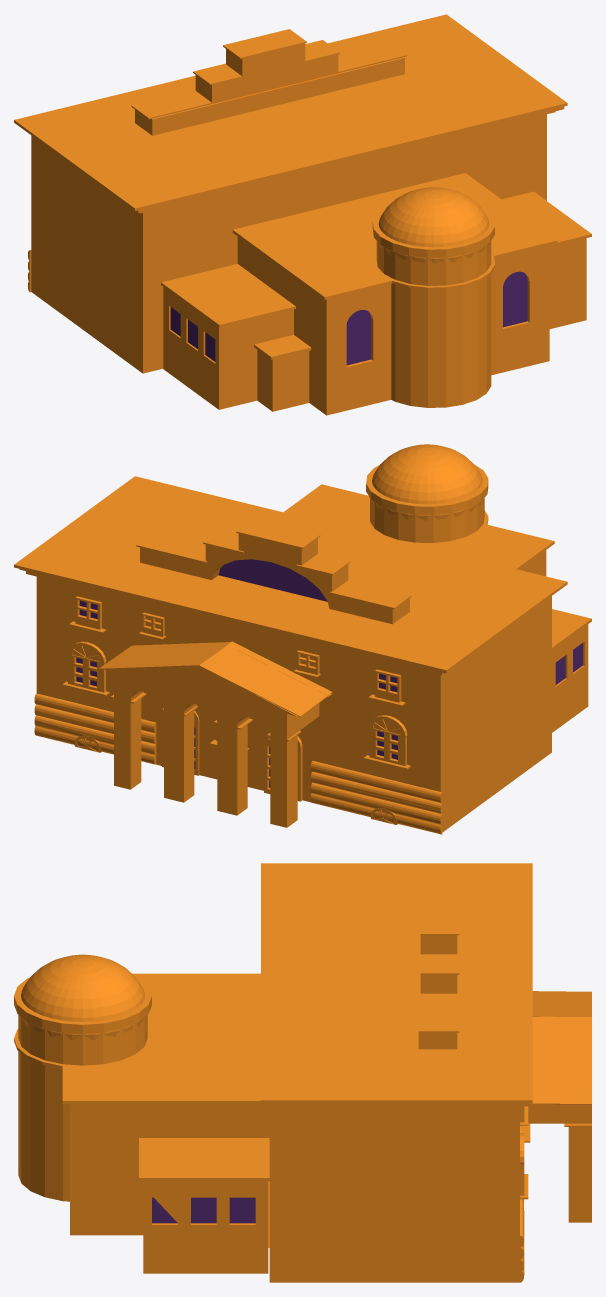
The model's file is Laźnia-Rogatka Lubelska.obj.
The picture shows the model from 3 angles, top to bottom: view 1: azimuth 30°, elevation 25°; view 2: azimuth 150°, elevation 25°; view 3: azimuth 270°, elevation 25°; orthographic projection. The views are drawn at different scales.
Visible parts, largest first — view 1: Laznia-Rogatka_Lubelska_Laznia_cala_; view 2: Laznia-Rogatka_Lubelska_Laznia_cala_; view 3: Laznia-Rogatka_Lubelska_Laznia_cala_.
Part boxes in pixels (box(x1,y1,x2,y2)): Laznia-Rogatka_Lubelska_Laznia_cala_: box(14, 14, 591, 415); Laznia-Rogatka_Lubelska_Laznia_cala_: box(14, 444, 591, 834); Laznia-Rogatka_Lubelska_Laznia_cala_: box(14, 863, 591, 1282).
Bounding box in the file's own units: 41.33 × 20.67 × 42.61.
